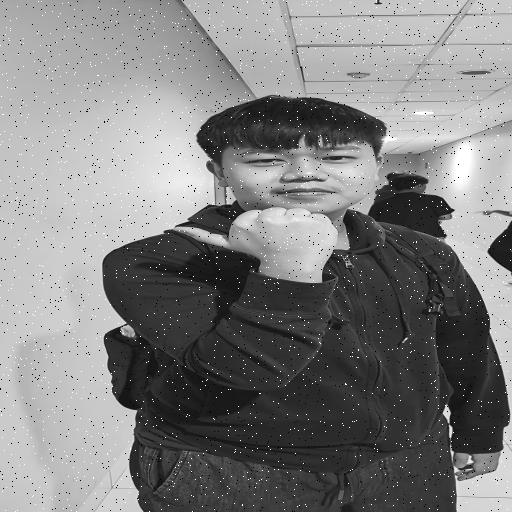back: (150, 201, 387, 274)
